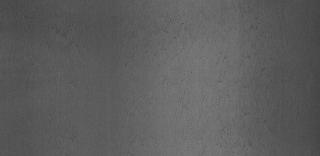silk spot: (184, 100, 276, 152), (223, 23, 279, 90), (146, 18, 208, 62)
